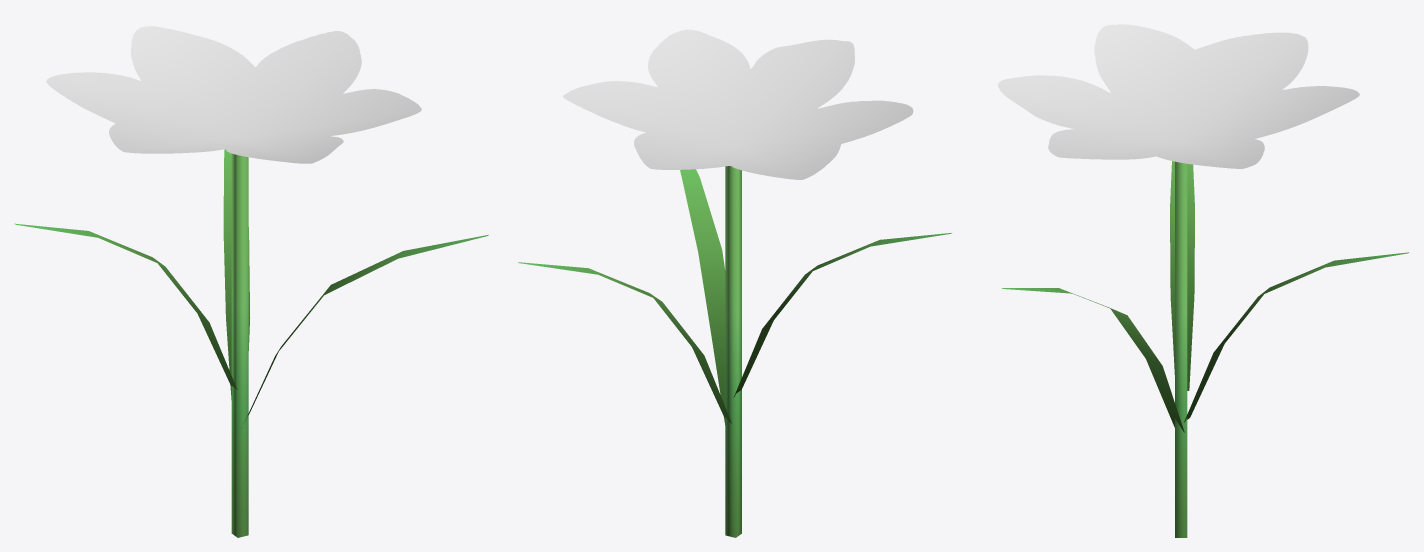
The model's file is SM_Sw_Flower_01.fbx.
3 views of the same model, side by side, from view 1: azimuth 30°, elevation 25°; view 2: azimuth 150°, elevation 25°; view 3: azimuth 270°, elevation 25° (orthographic). The views are drawn at different scales.
Parts seen in each view (by area): view 1: SM_Sw_Flower_01; view 2: SM_Sw_Flower_01; view 3: SM_Sw_Flower_01.
Part boxes in pixels (x1,y1,x2,y2): SM_Sw_Flower_01: (14,26,488,537); SM_Sw_Flower_01: (518,29,951,537); SM_Sw_Flower_01: (998,24,1408,537).
Bounding box in the file's own units: 25.91 × 28.17 × 24.73.
